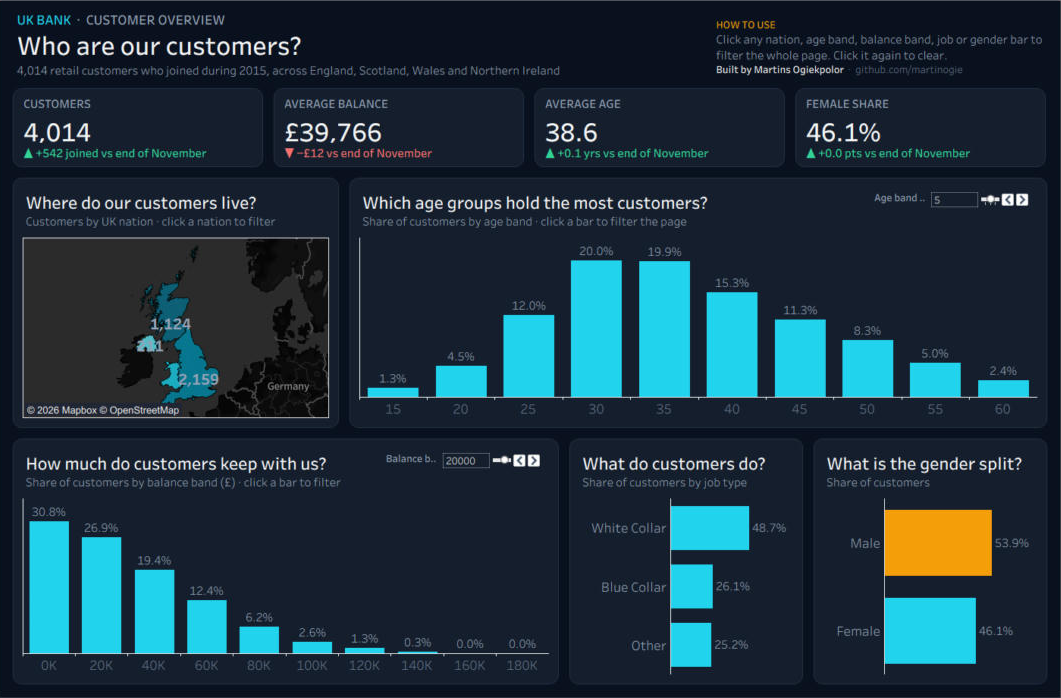

Layout of this report page (visuals, bound fields, positions):
{"tool":"tableau","page":{"name":"Dashboard 1","canvas":[1400,920],"ordinal":0},"visuals":[{"type":"text","box":[18,8,900,100]},{"type":"text","box":[940,14,442,96]},{"type":"text","box":[18,116,330,104]},{"type":"text","box":[362,116,330,104]},{"type":"text","box":[706,116,330,104]},{"type":"text","box":[1050,116,330,104]},{"type":"worksheet","title":"KPI Customers","mark":"Text","box":[28,122,310,66]},{"type":"worksheet","title":"KPI Balance","mark":"Text","box":[372,122,310,66]},{"type":"worksheet","title":"KPI Age","mark":"Text","box":[716,122,310,66]},{"type":"worksheet","title":"KPI Female","mark":"Text","box":[1060,122,310,66]},{"type":"worksheet","title":"KPI Customers change","mark":"Text","box":[28,190,310,24]},{"type":"worksheet","title":"KPI Balance change","mark":"Text","box":[372,190,310,24]},{"type":"worksheet","title":"KPI Age change","mark":"Text","box":[716,190,310,24]},{"type":"worksheet","title":"KPI Female change","mark":"Text","box":[1060,190,310,24]},{"type":"worksheet","title":"Map","mark":"Multipolygon","box":[18,234,430,330]},{"type":"worksheet","title":"Distribution by Age","mark":"Bar","rows":["S6-UK-Bank-Customers.csv_080C788A0B4B4A6397F4DEC6525EF8B0"],"cols":["Age (bin)"],"box":[462,234,920,330]},{"type":"parameter","param":"[Parameters].[Parameter 2]","box":[1152,248,210,46]},{"type":"worksheet","title":"Distribution by Balance","mark":"Bar","rows":["S6-UK-Bank-Customers.csv_080C788A0B4B4A6397F4DEC6525EF8B0"],"cols":["Balance (bin)"],"box":[18,578,720,324]},{"type":"worksheet","title":"Job Classification","mark":"Bar","rows":["Job Classification"],"box":[752,578,308,324]},{"type":"worksheet","title":"Gender","mark":"Bar","rows":["Gender"],"box":[1074,578,308,324]},{"type":"parameter","param":"[Parameters].[Parameter 1]","box":[508,592,210,46]}]}

Visuals, with their boxes in screenshot pixels (x1, y1, x2, y2), scaled from the page's 1400x920 canvas onto the 1061x698 screenshot:
text: bbox(14, 6, 696, 82)
text: bbox(712, 11, 1047, 83)
text: bbox(14, 88, 264, 167)
text: bbox(274, 88, 524, 167)
text: bbox(535, 88, 785, 167)
text: bbox(796, 88, 1046, 167)
"KPI Customers" worksheet (Text marks): bbox(21, 93, 256, 143)
"KPI Balance" worksheet (Text marks): bbox(282, 93, 517, 143)
"KPI Age" worksheet (Text marks): bbox(543, 93, 778, 143)
"KPI Female" worksheet (Text marks): bbox(803, 93, 1038, 143)
"KPI Customers change" worksheet (Text marks): bbox(21, 144, 256, 162)
"KPI Balance change" worksheet (Text marks): bbox(282, 144, 517, 162)
"KPI Age change" worksheet (Text marks): bbox(543, 144, 778, 162)
"KPI Female change" worksheet (Text marks): bbox(803, 144, 1038, 162)
"Map" worksheet (Multipolygon marks): bbox(14, 178, 340, 428)
"Distribution by Age" worksheet (Bar marks): bbox(350, 178, 1047, 428)
parameter: bbox(873, 188, 1032, 223)
"Distribution by Balance" worksheet (Bar marks): bbox(14, 439, 559, 684)
"Job Classification" worksheet (Bar marks): bbox(570, 439, 803, 684)
"Gender" worksheet (Bar marks): bbox(814, 439, 1047, 684)
parameter: bbox(385, 449, 544, 484)
